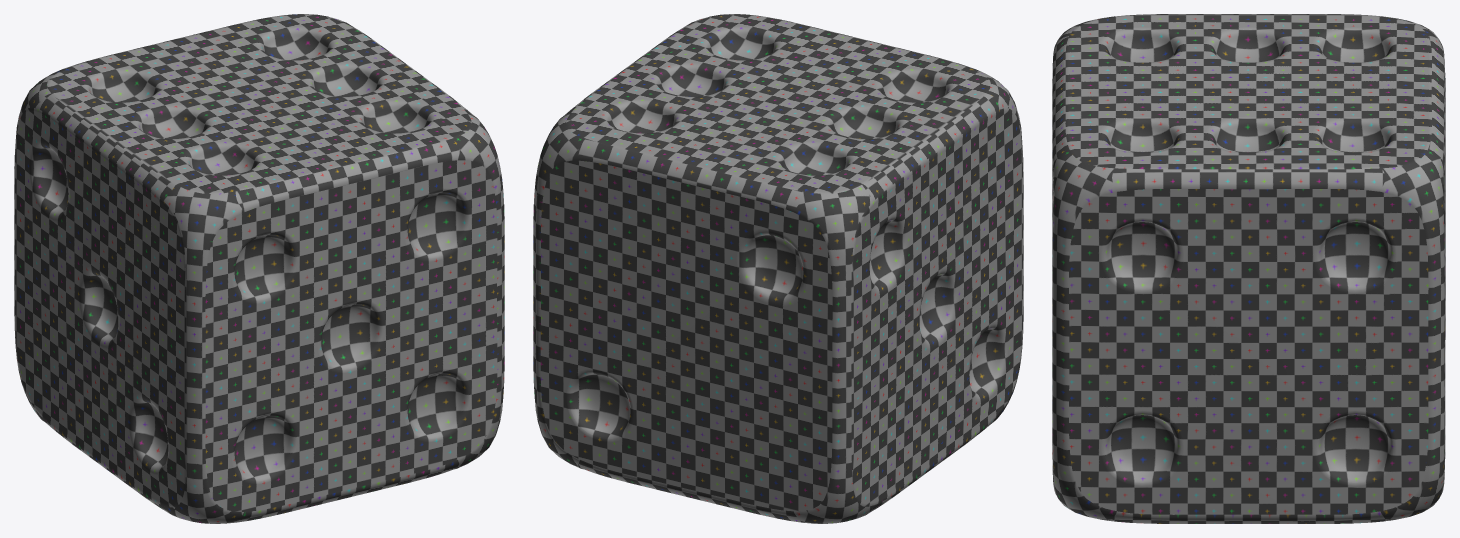
The model's file is dice.glb.
3 renders of one model, left to right at view 1: azimuth 30°, elevation 25°; view 2: azimuth 150°, elevation 25°; view 3: azimuth 270°, elevation 25°, orthographic. The views are drawn at different scales.
Visible parts, largest first — view 1: Die (low); view 2: Die (low); view 3: Die (low).
Part boxes in pixels (box(x1,y1,x2,y2)): Die (low): box(14, 14, 504, 523); Die (low): box(533, 14, 1023, 523); Die (low): box(1052, 14, 1445, 523).
Size of the model in its own units: 2 by 1.99 by 1.99.
Materials: 1 (1 with a texture image).
